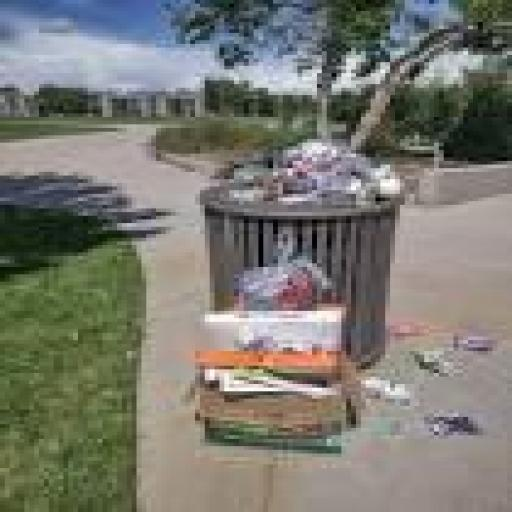poubelle_pleine: (150, 142, 466, 436)
